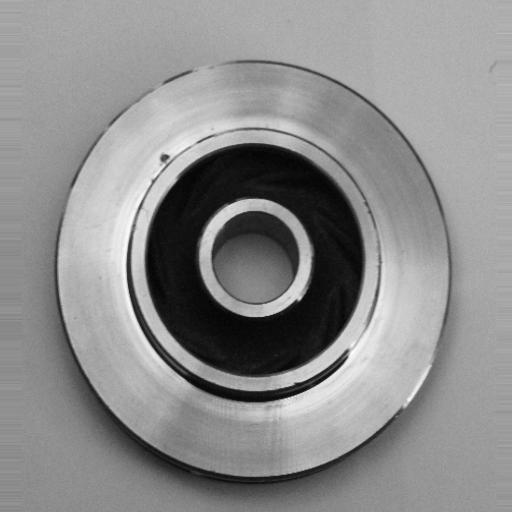crack: (153, 147, 177, 171)
scratch: (337, 306, 388, 374)
unpolished_casting: (52, 57, 455, 484)
